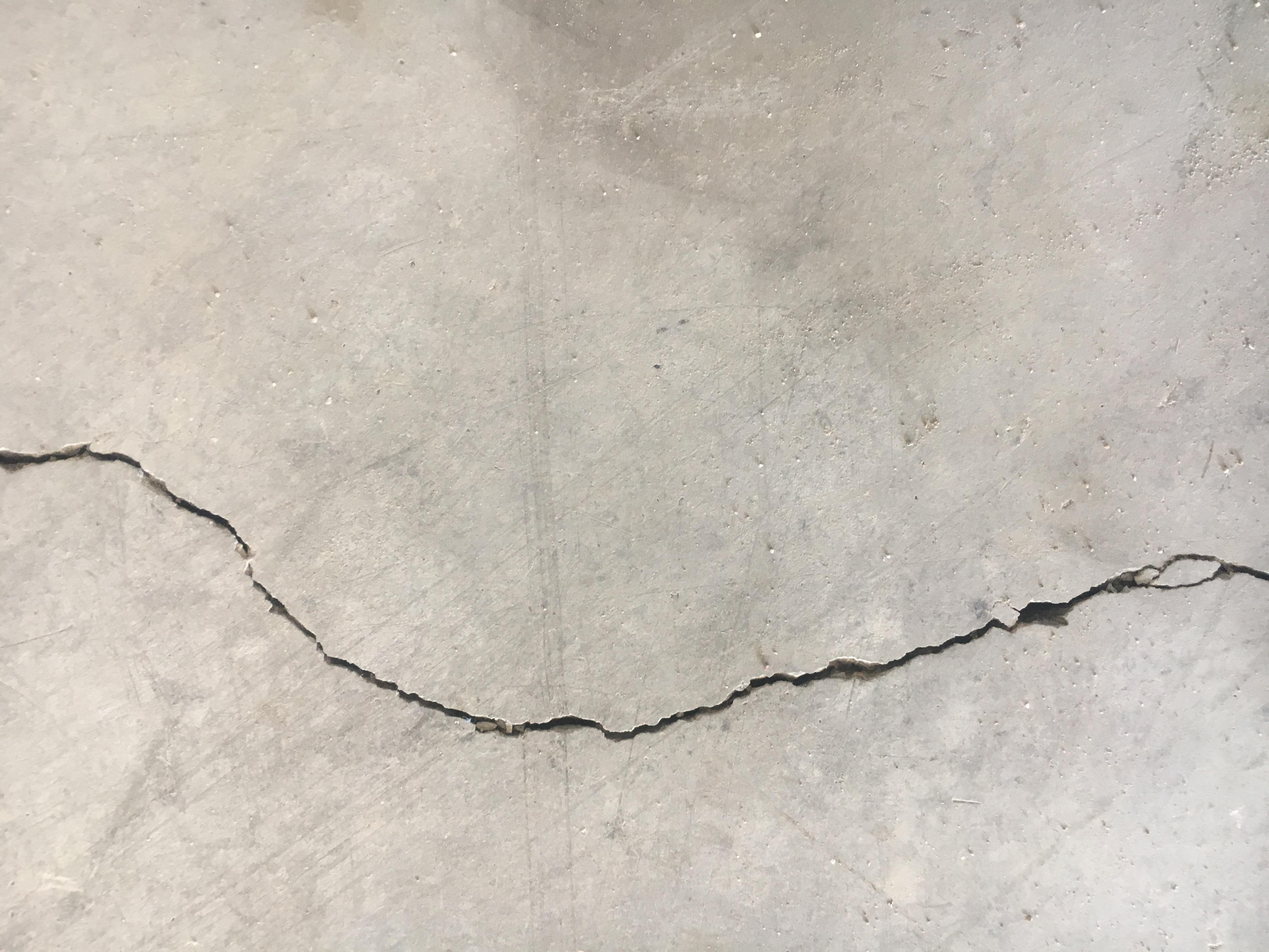Horizontal Settlement Crack: (4, 436, 1265, 745)
